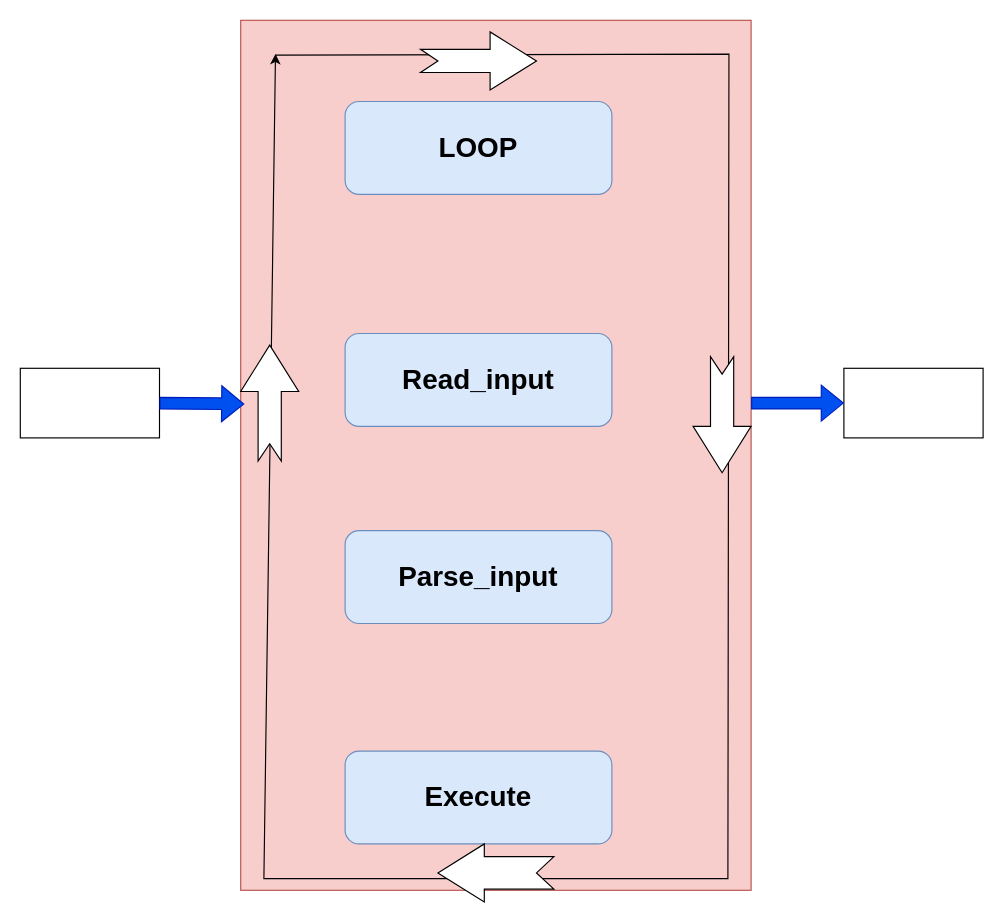
Image size: 1003x922. Some labels were removed from this diagram. Here are the shapes that lost their labels. From the top down, the centre of each, then its label:
pixel 89 402: STDIN
pixel 913 402: STDOUT
